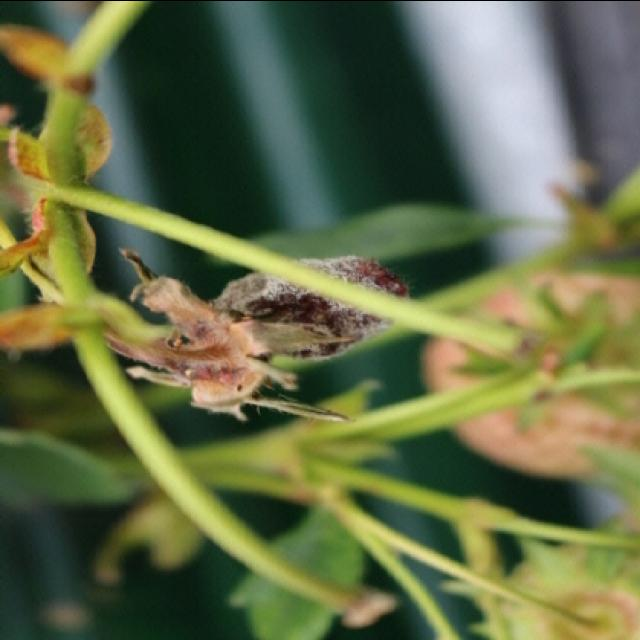Gray Mold: (99, 246, 411, 422)
